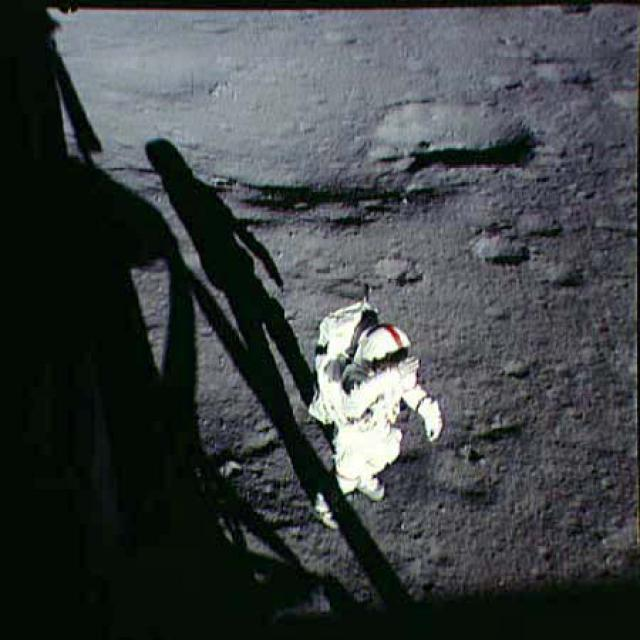crater: (374, 90, 556, 185), (239, 142, 413, 228), (52, 37, 248, 112), (430, 448, 538, 515), (463, 232, 537, 280), (508, 211, 578, 245), (544, 254, 604, 291), (371, 246, 418, 292)
